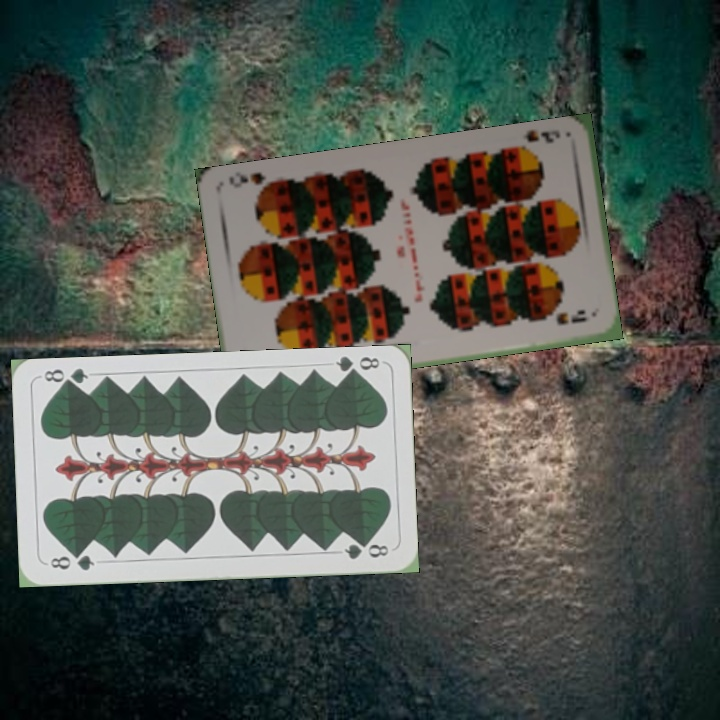G8: (332, 353, 382, 381), (46, 550, 97, 574)
S9: (515, 126, 563, 155)
